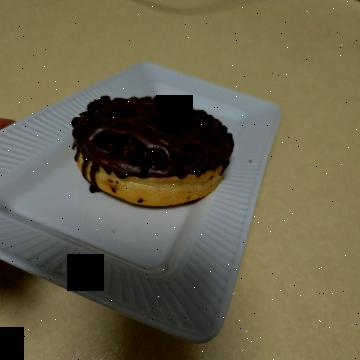doughnut: (92, 125, 228, 302)
